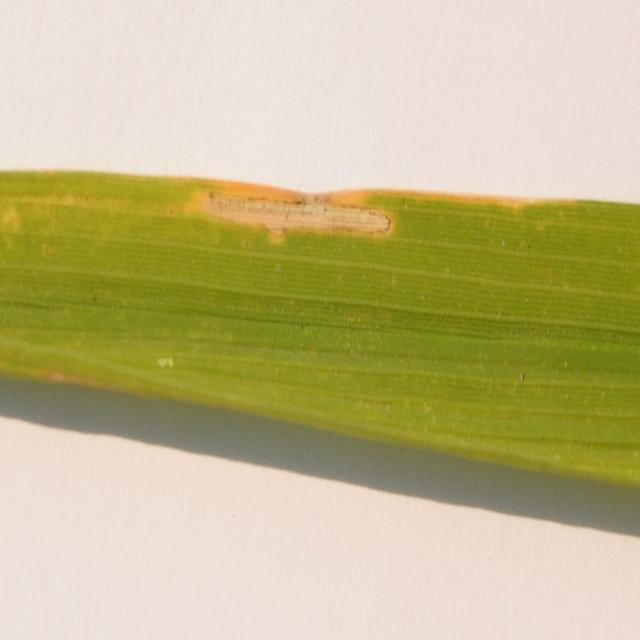leaf blight: (158, 177, 396, 256), (0, 196, 26, 244)
